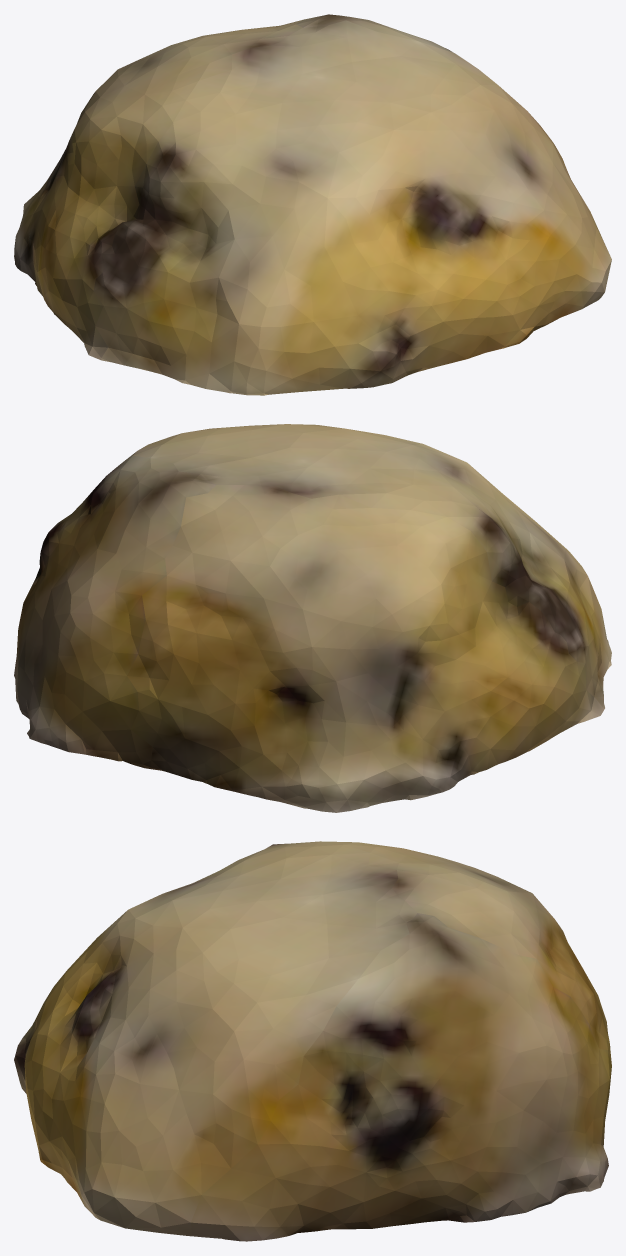
File: orange-chocolate-chip-ricotta-cookies.gltf
3 views of the same model, one above another, from view 1: azimuth 30°, elevation 25°; view 2: azimuth 150°, elevation 25°; view 3: azimuth 270°, elevation 25° (orthographic). The views are drawn at different scales.
Bounding box in the file's own units: 0.186 × 0.0748 × 0.1796.
Materials: 1 (1 with a texture image).
